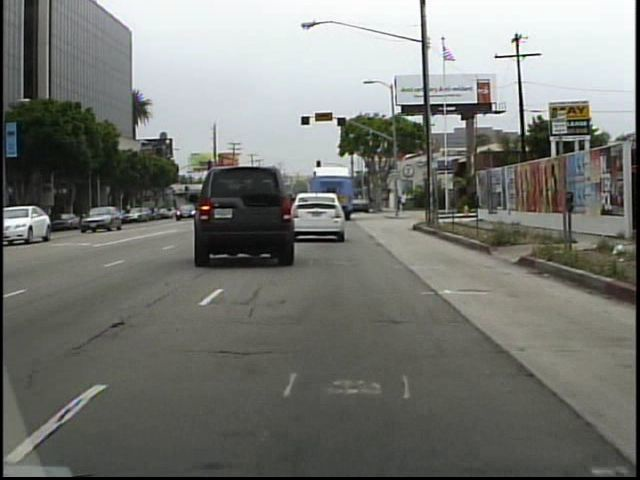person: (401, 188, 411, 214), (395, 189, 403, 214)
